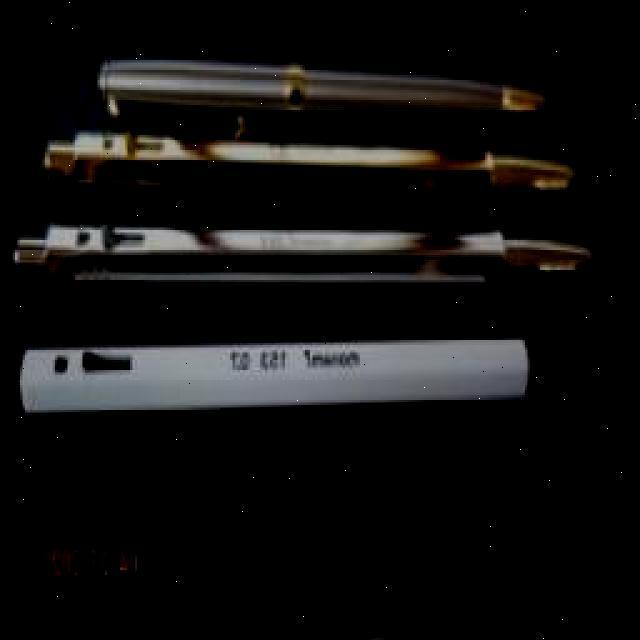pen: (0, 338, 630, 418)
